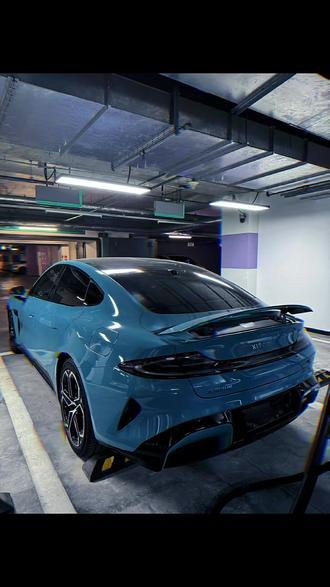su7: (4, 255, 319, 469)
